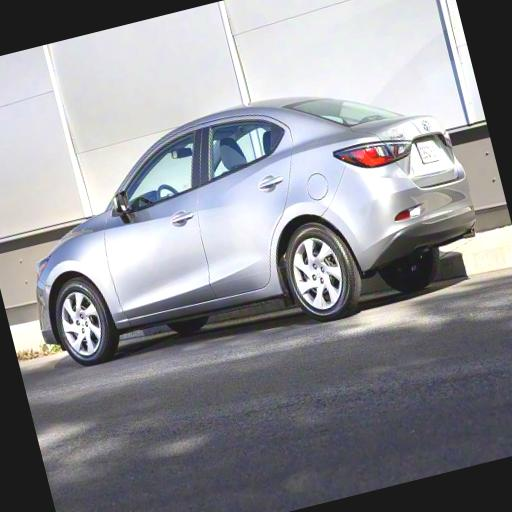Sedan-sDLz: (37, 98, 475, 365)
